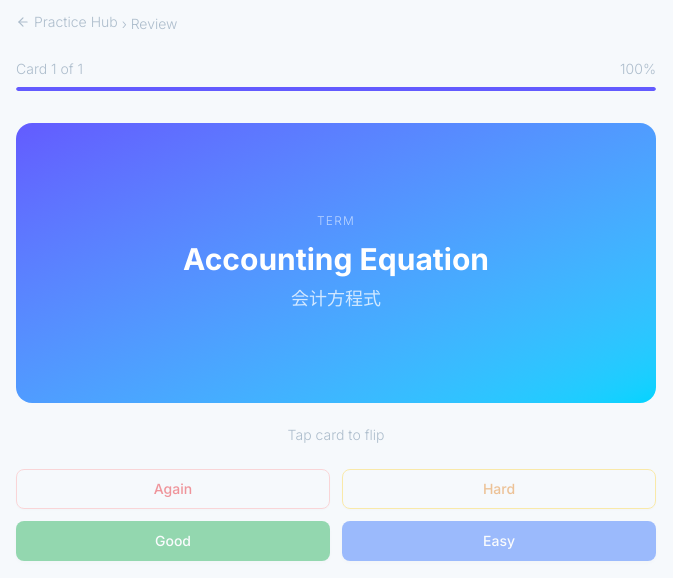
it: ReviewSession › displays rating buttons only when card is flipped
Expected: the button "Again" is disabled, [16,469,330,509]
Expected: the button "Hard" is disabled, [342,469,656,509]
# Flip card
Click the button with aria-label "Flashcard for" at (336, 263), box [16,123,656,403]
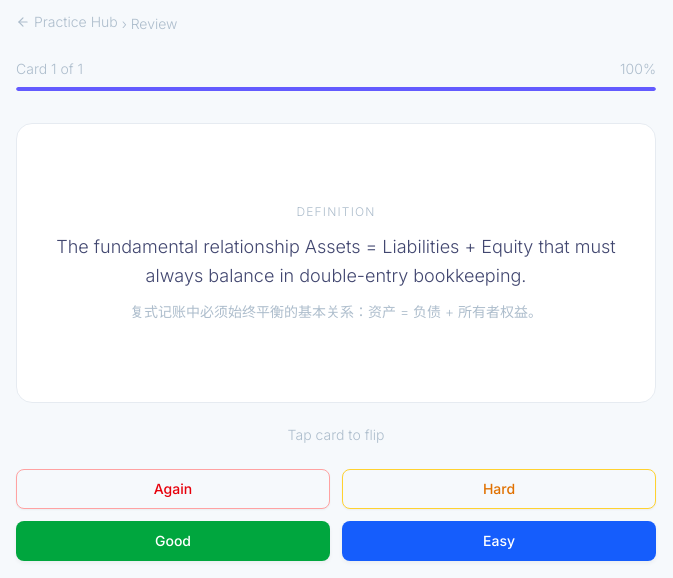
Expected: the button "Again" is enabled, [16,469,330,509]
Expected: the button "Hard" is enabled, [342,469,656,509]
Expected: the button "Good" is enabled, [16,521,330,561]
